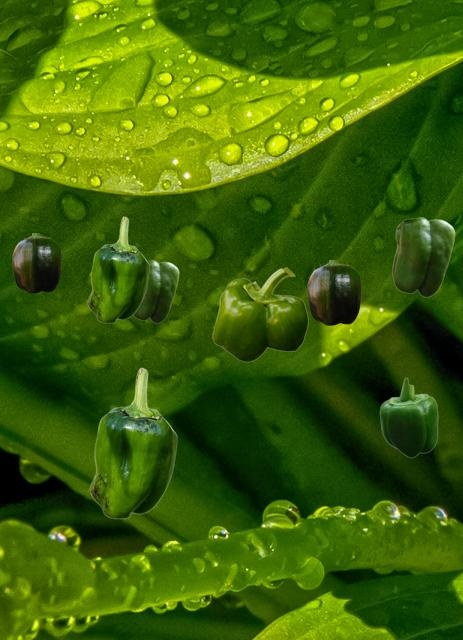bell_pepper: (89, 367, 176, 518), (212, 267, 307, 361), (87, 216, 148, 322), (392, 217, 454, 296), (379, 377, 437, 457), (307, 260, 360, 324), (12, 233, 60, 292), (133, 260, 178, 322)
